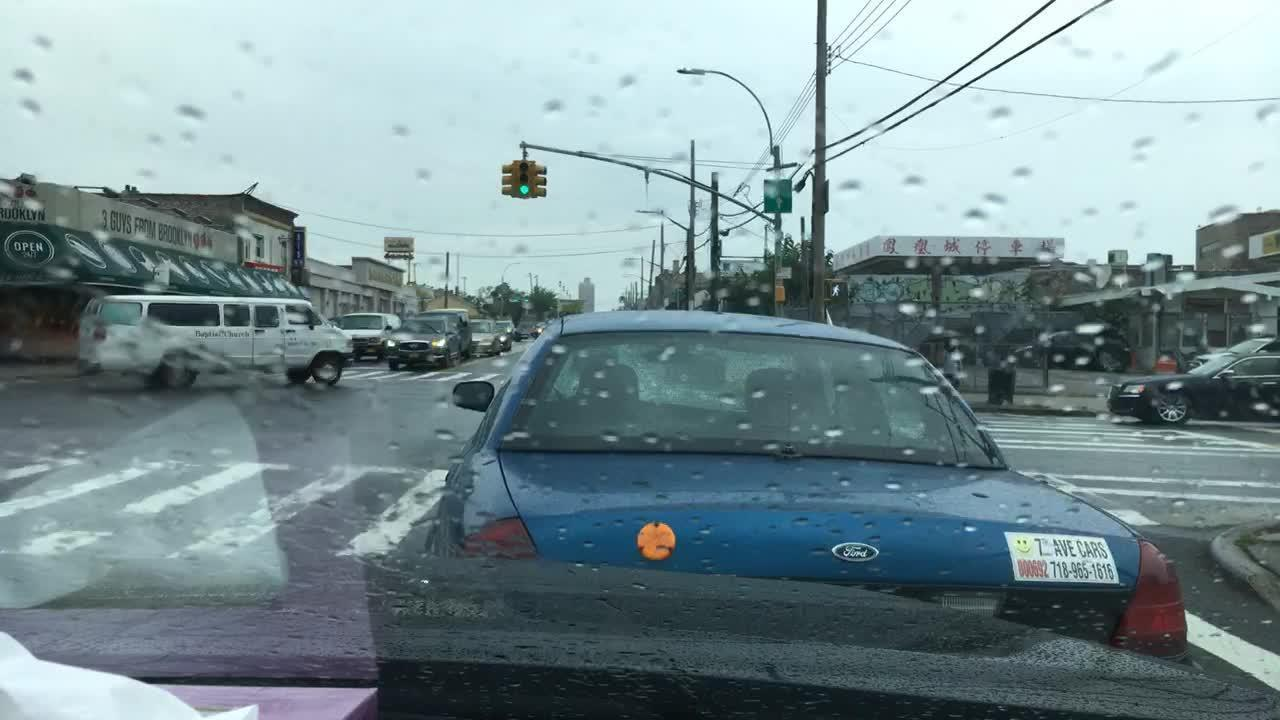ford: (813, 528, 900, 579)
